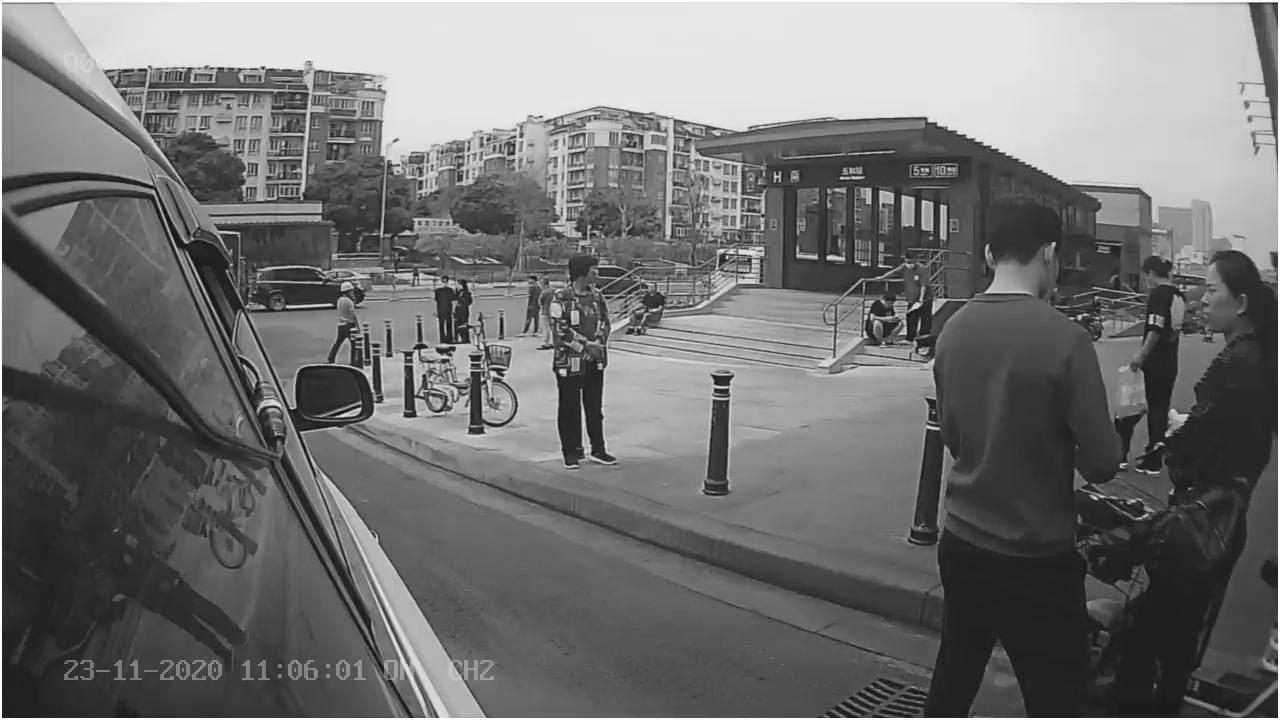person: (539, 248, 629, 473)
